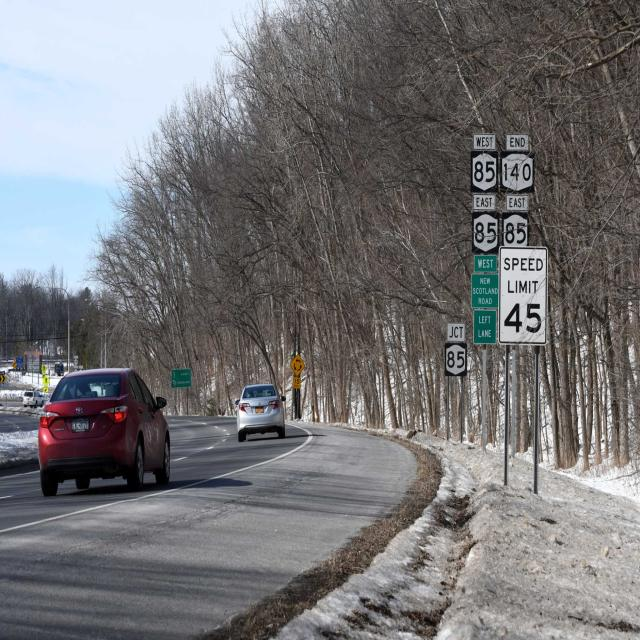speedLimit45: (499, 242, 549, 344)
